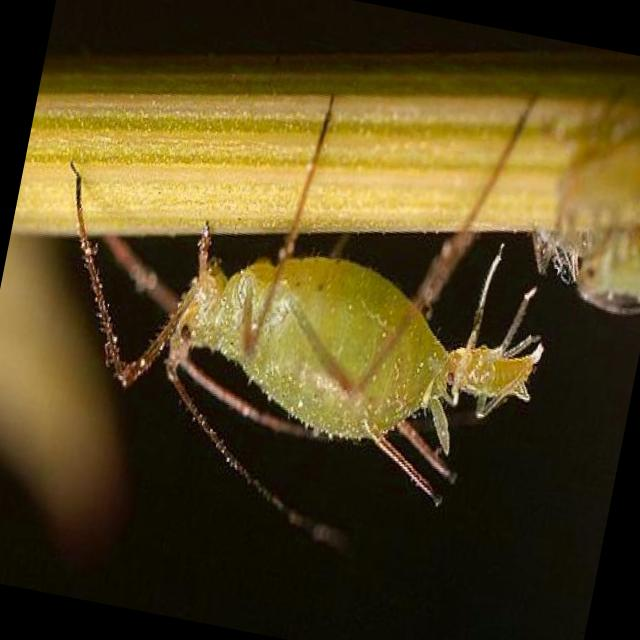aphid: (36, 14, 555, 538)
